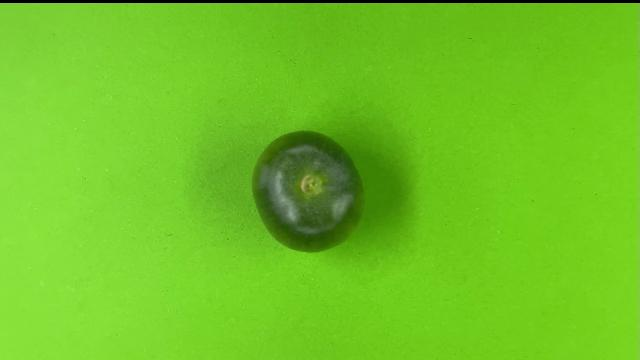Fruit Maturation: (251, 130, 365, 253)
